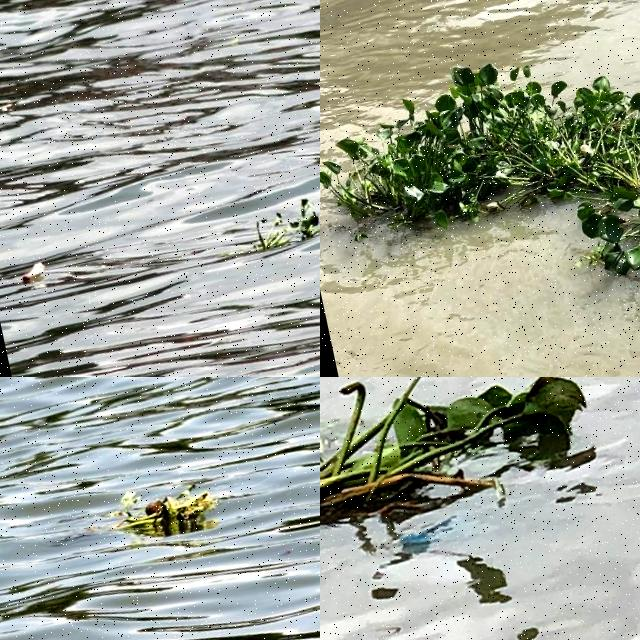water-hyacinth: (321, 22, 640, 259), (321, 378, 601, 549), (551, 144, 640, 318), (112, 476, 225, 544), (248, 186, 321, 253)
